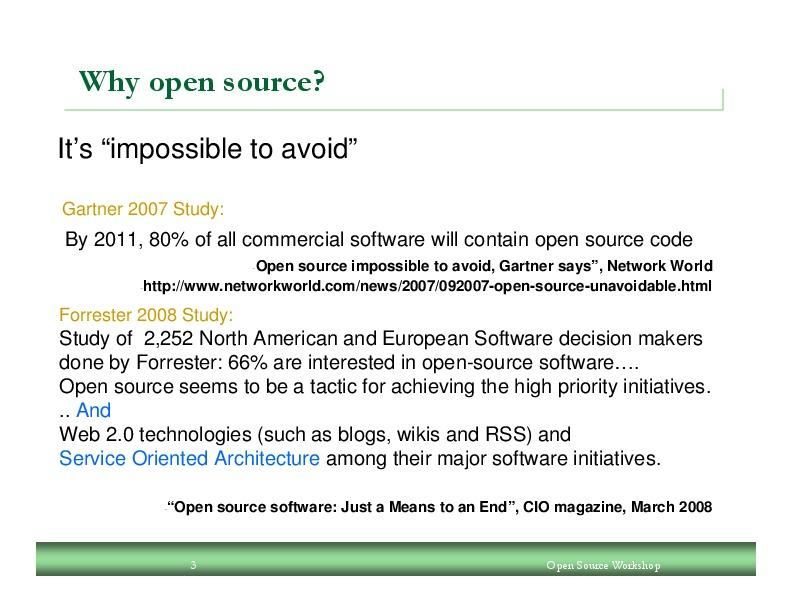paragraph: (46, 127, 731, 525)
title: (63, 55, 341, 110)
